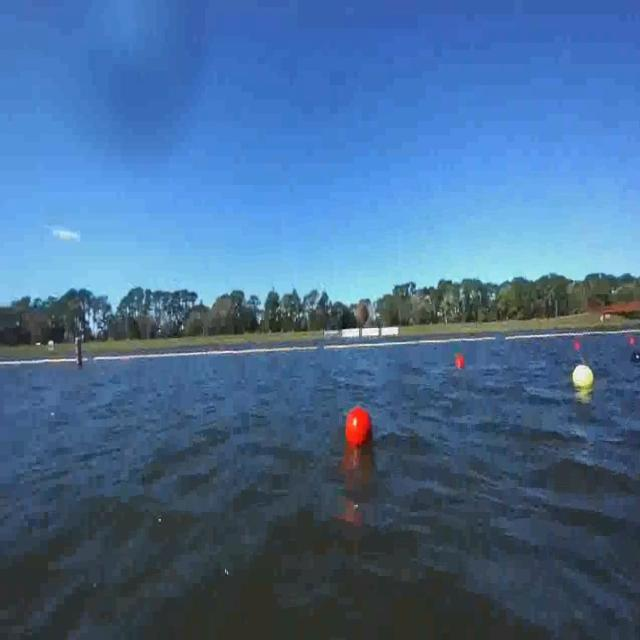black-buoy: (630, 350, 640, 363)
red-buoy: (344, 406, 374, 452), (456, 354, 465, 369)
yellow-buoy: (571, 363, 593, 389)
